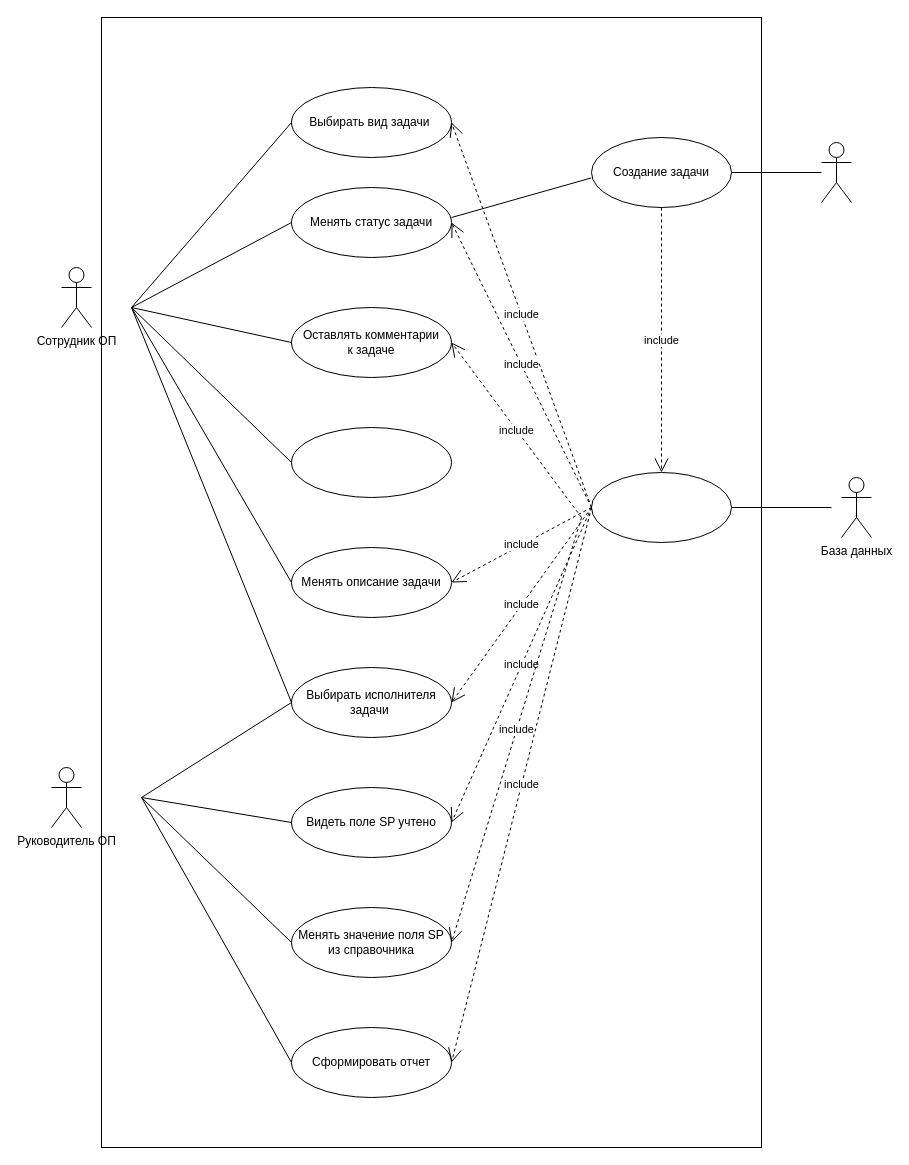
This 909x1165 diagram has some shape labels left out. The box of each missing label's shape, as (x1, y1, x2, y2) in pixels:
Отправлять письма из задачи: (290, 426, 452, 498)
Почтовый сервис: (820, 142, 852, 202)
Работа с данными: (590, 472, 732, 542)
